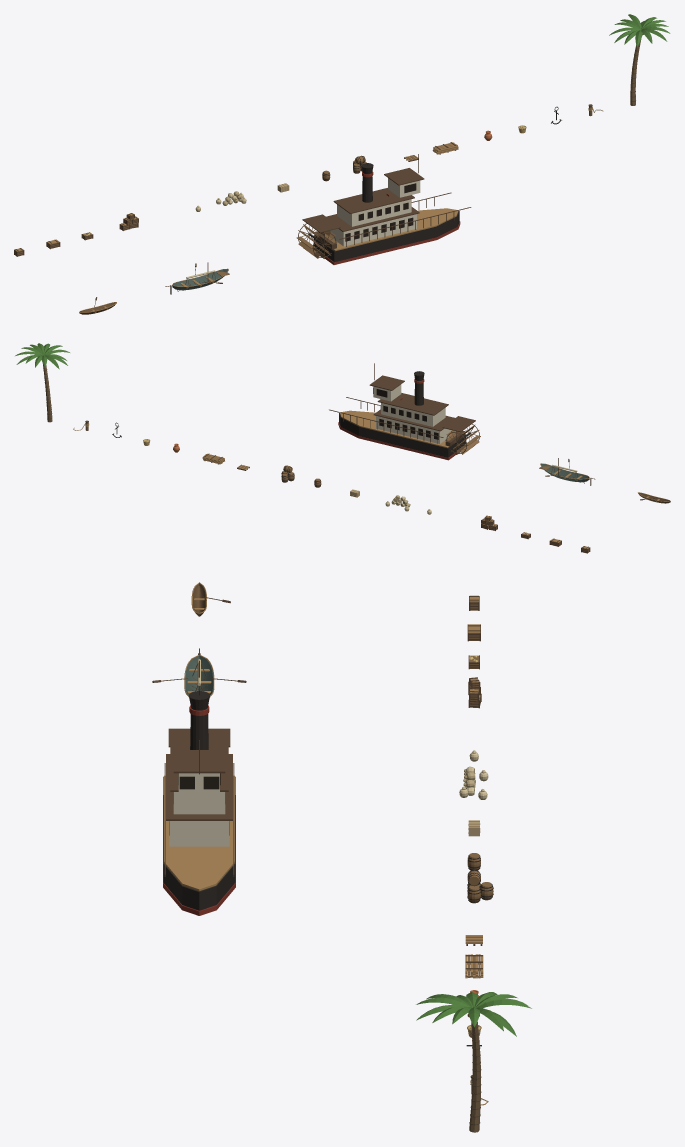
Rendered from decorativos.glb.
3 renders of one model, top to bottom at view 1: azimuth 30°, elevation 25°; view 2: azimuth 150°, elevation 25°; view 3: azimuth 270°, elevation 25°, orthographic. The views are drawn at different scales.
Parts seen in each view (by area): view 1: vapor_fluvial_MaderaOscura, vapor_fluvial_Blanco, vapor_fluvial_Negro, palma_coco_HojaPalma, vapor_fluvial_MaderaClara, vapor_fluvial_Ventana, vapor_fluvial_Rojo, vapor_fluvial_Madera, bote_chalupa_CascoChalupa; view 2: vapor_fluvial_MaderaOscura, vapor_fluvial_Blanco, vapor_fluvial_Negro, palma_coco_HojaPalma, vapor_fluvial_MaderaClara, vapor_fluvial_Ventana, vapor_fluvial_Rojo, vapor_fluvial_Madera, bote_chalupa_CascoChalupa; view 3: vapor_fluvial_MaderaOscura, vapor_fluvial_Blanco, vapor_fluvial_MaderaClara, vapor_fluvial_Negro, palma_coco_HojaPalma, palma_coco_Tronco.
Boxes of the visible parts, x1,y1,x2,y2 form: vapor_fluvial_MaderaOscura: (298,154,471,257); vapor_fluvial_Blanco: (330,178,420,246); vapor_fluvial_Negro: (313,163,459,262); palma_coco_HojaPalma: (609,14,670,47); vapor_fluvial_MaderaClara: (333,208,458,251); vapor_fluvial_Ventana: (345,183,416,241); vapor_fluvial_Rojo: (325,171,460,264); vapor_fluvial_Madera: (296,224,337,258); bote_chalupa_CascoChalupa: (172,269,228,290); vapor_fluvial_MaderaOscura: (329,363,479,453); vapor_fluvial_Blanco: (373,384,451,443); vapor_fluvial_Negro: (339,371,466,457); palma_coco_HojaPalma: (15,343,69,369); vapor_fluvial_MaderaClara: (340,410,449,447); vapor_fluvial_Ventana: (373,388,438,439); vapor_fluvial_Rojo: (338,378,456,460); vapor_fluvial_Madera: (445,424,480,454); bote_chalupa_CascoChalupa: (541,464,589,482); vapor_fluvial_MaderaOscura: (164,728,234,876); vapor_fluvial_Blanco: (169,773,229,846); vapor_fluvial_MaderaClara: (164,775,234,891); vapor_fluvial_Negro: (163,690,235,910); palma_coco_HojaPalma: (416,992,531,1036); palma_coco_Tronco: (469,1022,480,1132).
Size of the model in its own units: 78.14 by 9.44 by 22.15.
